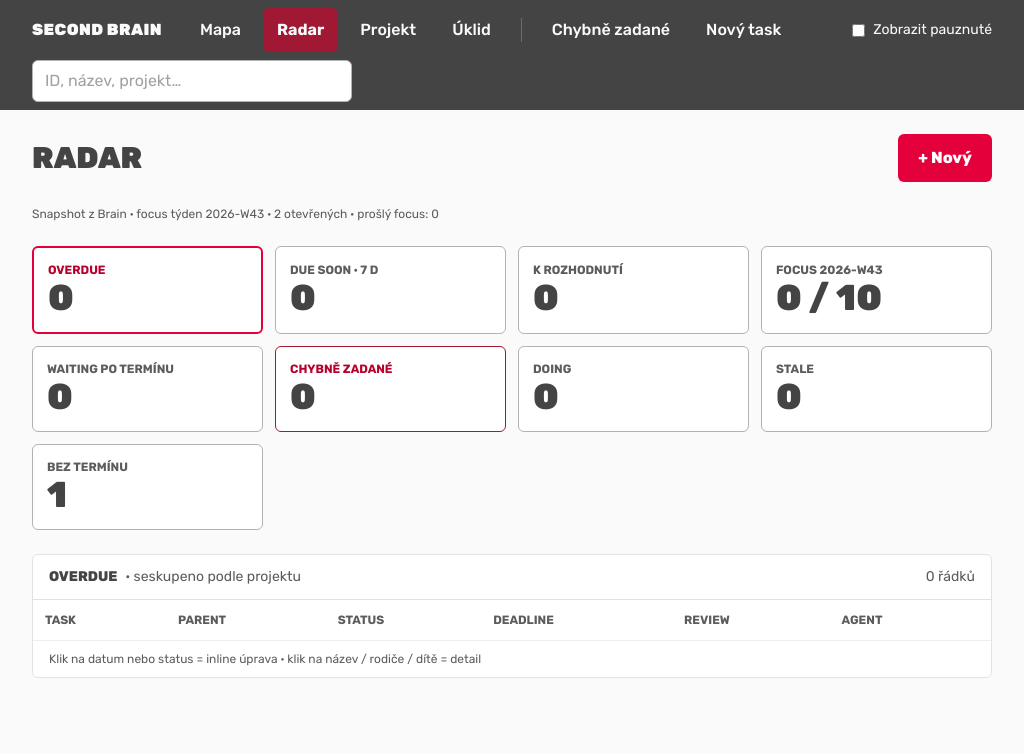
it: screens › B48 lets a filled selection go without Od and counts both days
Click the button "Úklid". click: (471, 30)
box: [438,8,505,52]
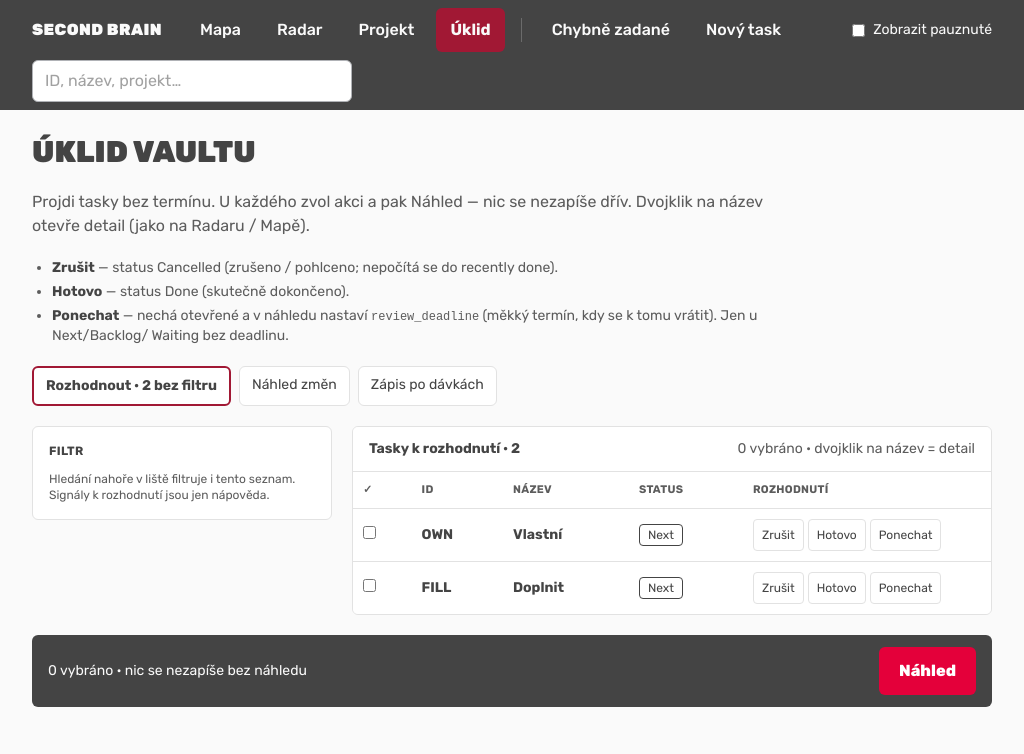
Click the checkbox named "Vybrat OWN — Vlastní". click: (370, 532)
box: [363,526,376,539]
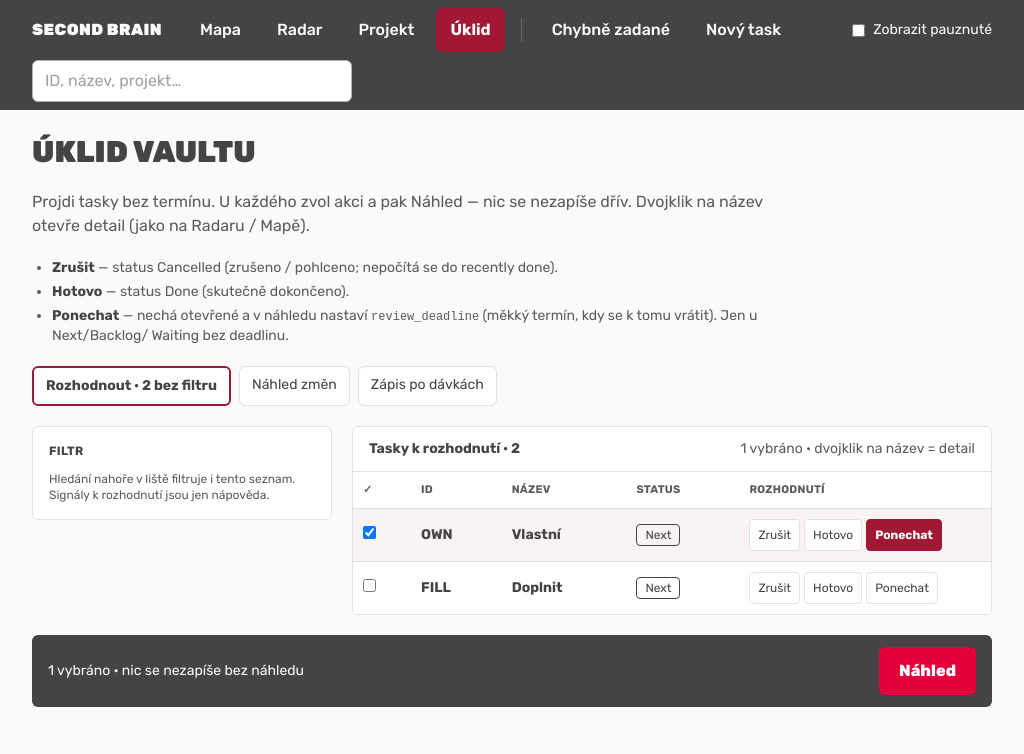
Click the checkbox named "Vybrat FILL — Doplnit". click: (370, 585)
box: [363,579,376,592]
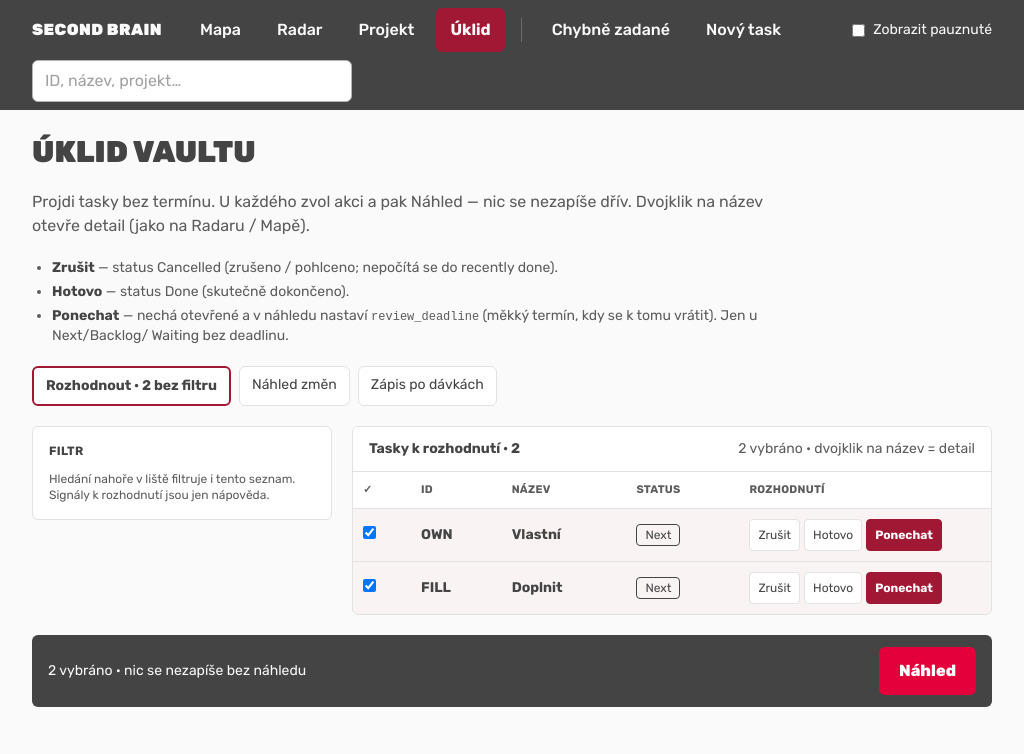
Click the button "Náhled". click: (928, 671)
box: [879,647,976,695]
(page scrolled)
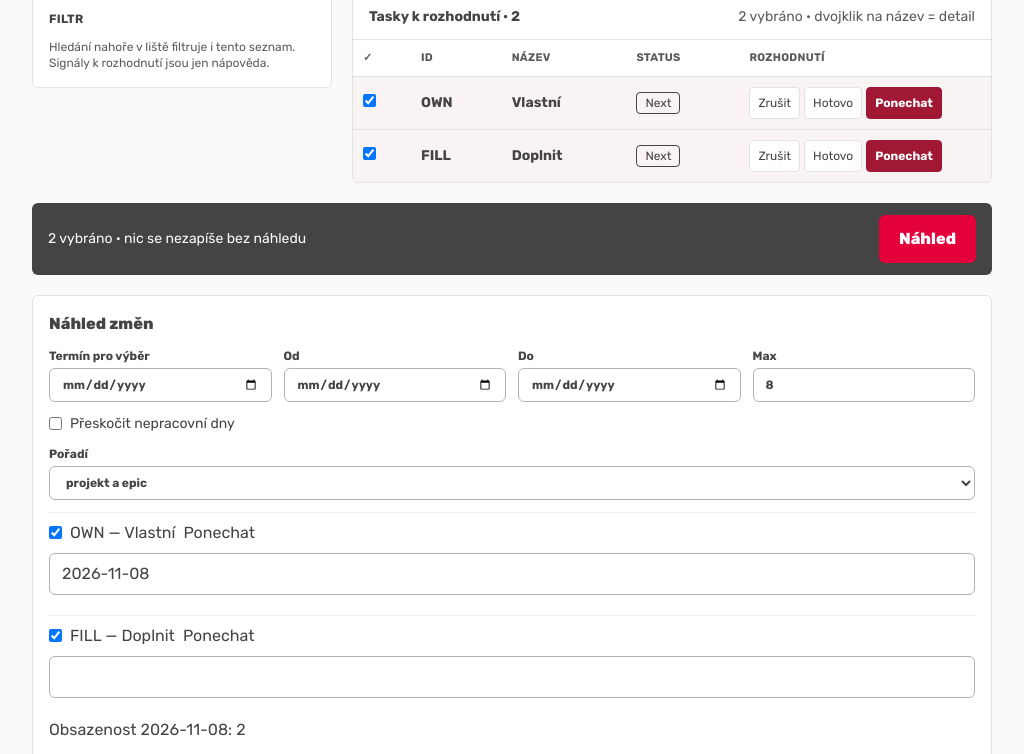
Type "2026-11-12" into the date field labelled "Termín pro výběr". click: (160, 385)
box: [49,368,272,402]
(page scrolled)
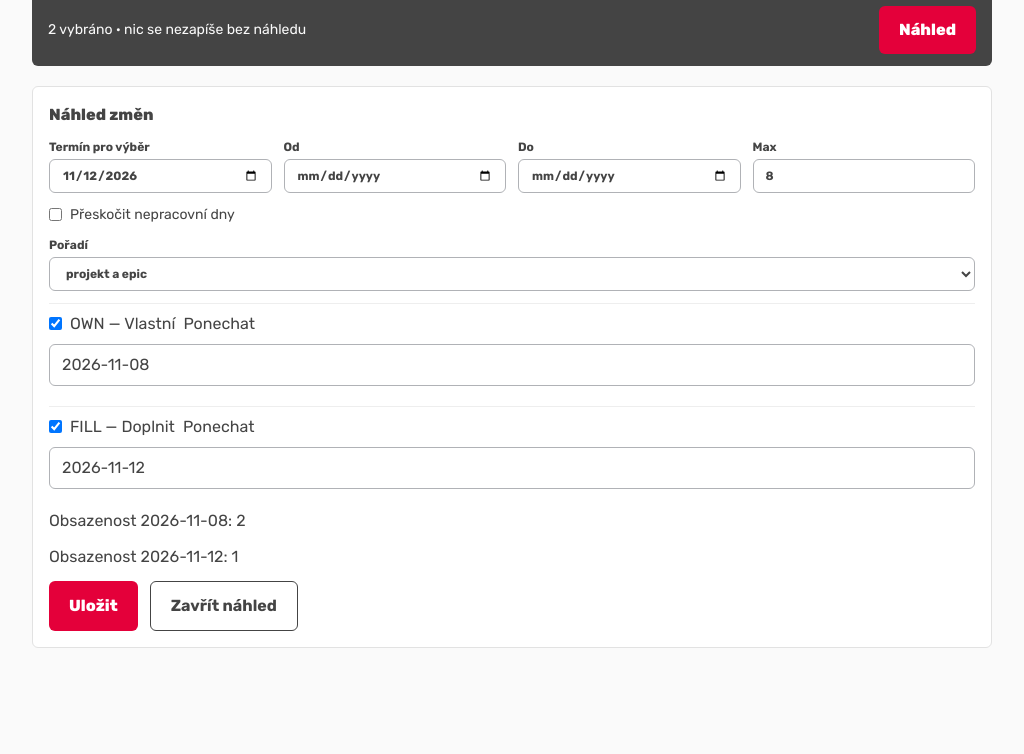
Now the field named "Termín OWN" holds "2026-11-08", box [49,344,975,386]
Now the field named "Termín FILL" holds "2026-11-12", box [49,447,975,489]
Now the button "Uložit" is enabled, box [49,581,138,631]
